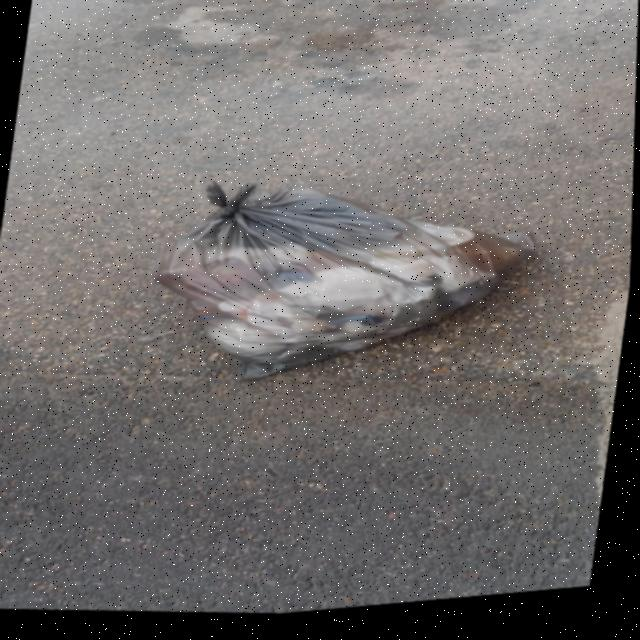Recycled Waste -Grey or Green Bag-: (133, 156, 548, 427)
